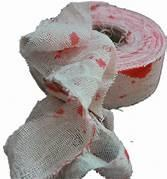cotton: (4, 2, 165, 178), (4, 2, 131, 178), (90, 1, 165, 108), (91, 2, 165, 108)
